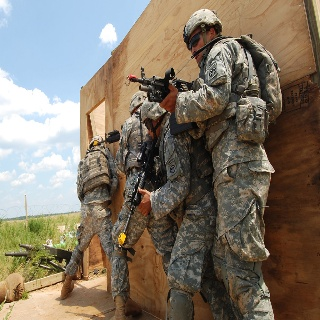rifle: (116, 135, 164, 248), (125, 66, 203, 106)
